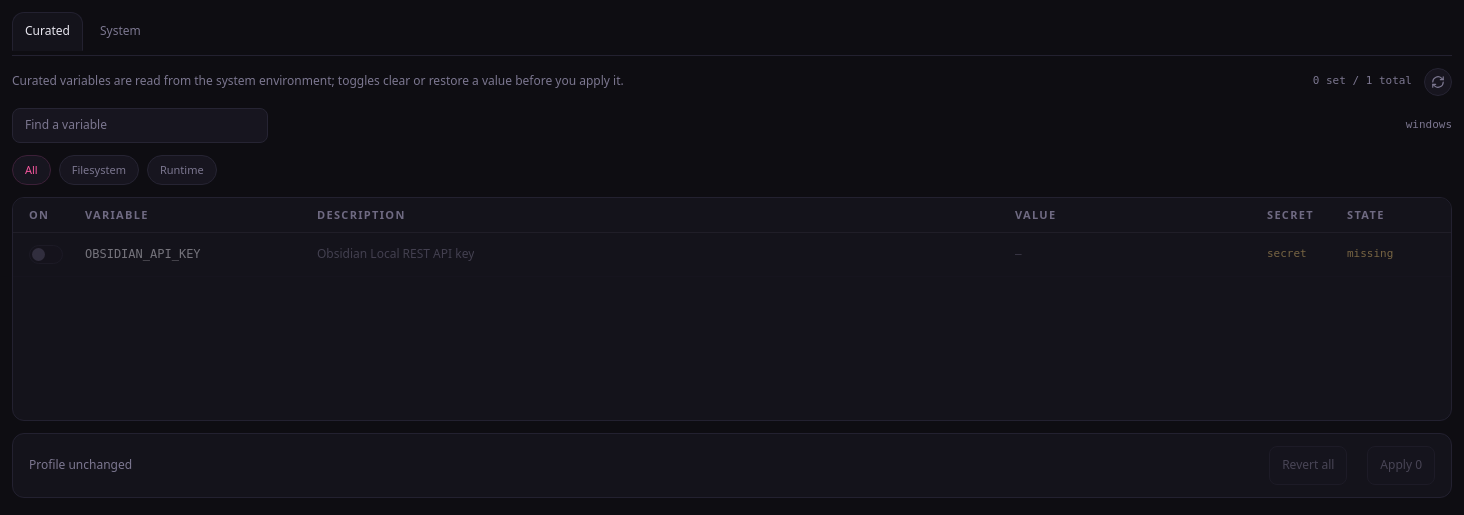
Environment console presentation › lets an unset secret switch on so its value can be entered
Click the switch named "Toggle OBSIDIAN_API_KEY" at coordinates (46, 255), box [29, 245, 63, 264]
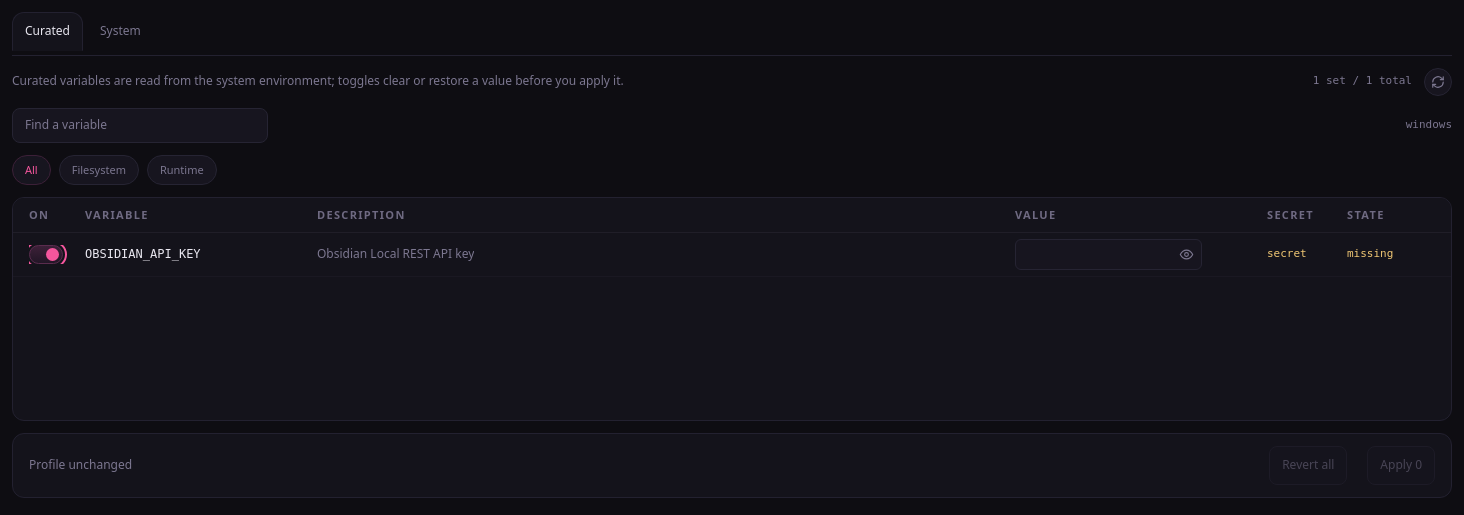
Expected: the switch named "Toggle OBSIDIAN_API_KEY" is checked, [29, 245, 63, 264]
Type "test-secret" into the password field named "OBSIDIAN_API_KEY value" at coordinates (1108, 255), box [1015, 240, 1202, 270]
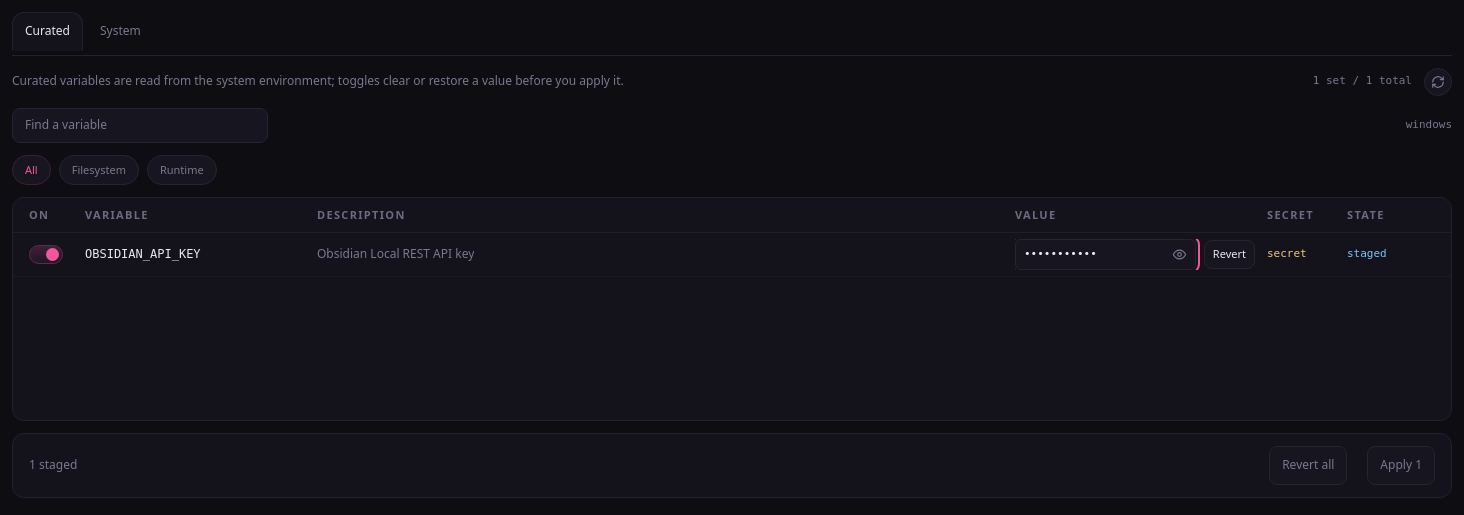
Expected: the button "Apply 1" is enabled, [1367, 446, 1435, 485]
